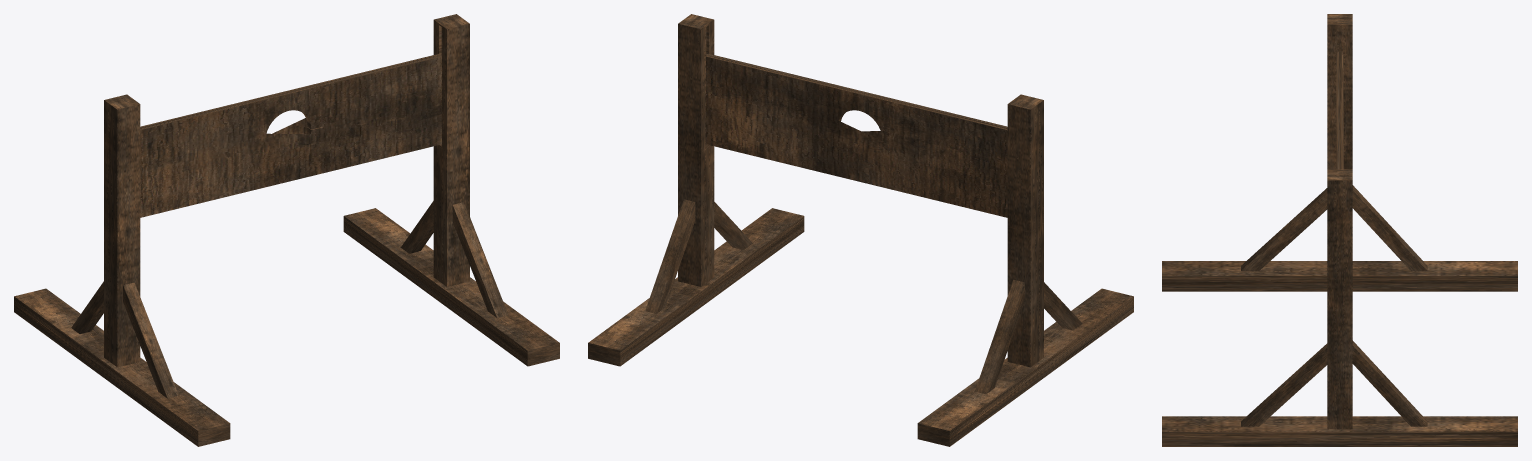
Rendered from PrisonWoodHanger.fbx.
3 renders of one model, left to right at view 1: azimuth 30°, elevation 25°; view 2: azimuth 150°, elevation 25°; view 3: azimuth 270°, elevation 25°, orthographic. The views are drawn at different scales.
Visible parts, largest first — view 1: Cube.001; view 2: Cube.001; view 3: Cube.001.
Boxes of the visible parts, box(x1,y1,x2,y2) form: Cube.001: box(14, 14, 559, 446); Cube.001: box(588, 14, 1133, 446); Cube.001: box(1162, 14, 1517, 446).
Bounding box in the file's own units: 2255 × 1645 × 1988.
Materials: 1 (1 with a texture image).
